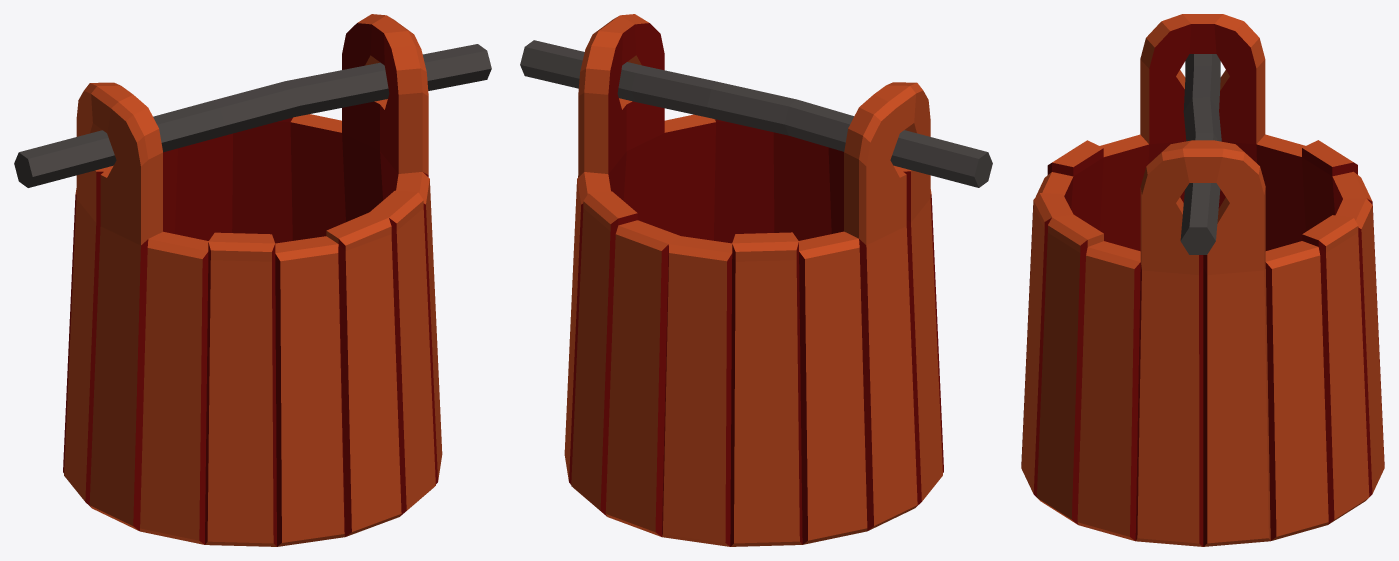
The model's file is item_14.glb.
3 views of the same model, side by side, from view 1: azimuth 30°, elevation 25°; view 2: azimuth 150°, elevation 25°; view 3: azimuth 270°, elevation 25° (orthographic). The views are drawn at different scales.
Parts seen in each view (by area): view 1: Item14; view 2: Item14; view 3: Item14.
Boxes of the visible parts, x1,y1,x2,y2 form: Item14: (14,14,491,546); Item14: (520,14,992,546); Item14: (1021,14,1384,546).
Size of what is drawn, in the model's own units: 0.2705 by 0.2325 by 0.1957.
1 material, 1 textured.
